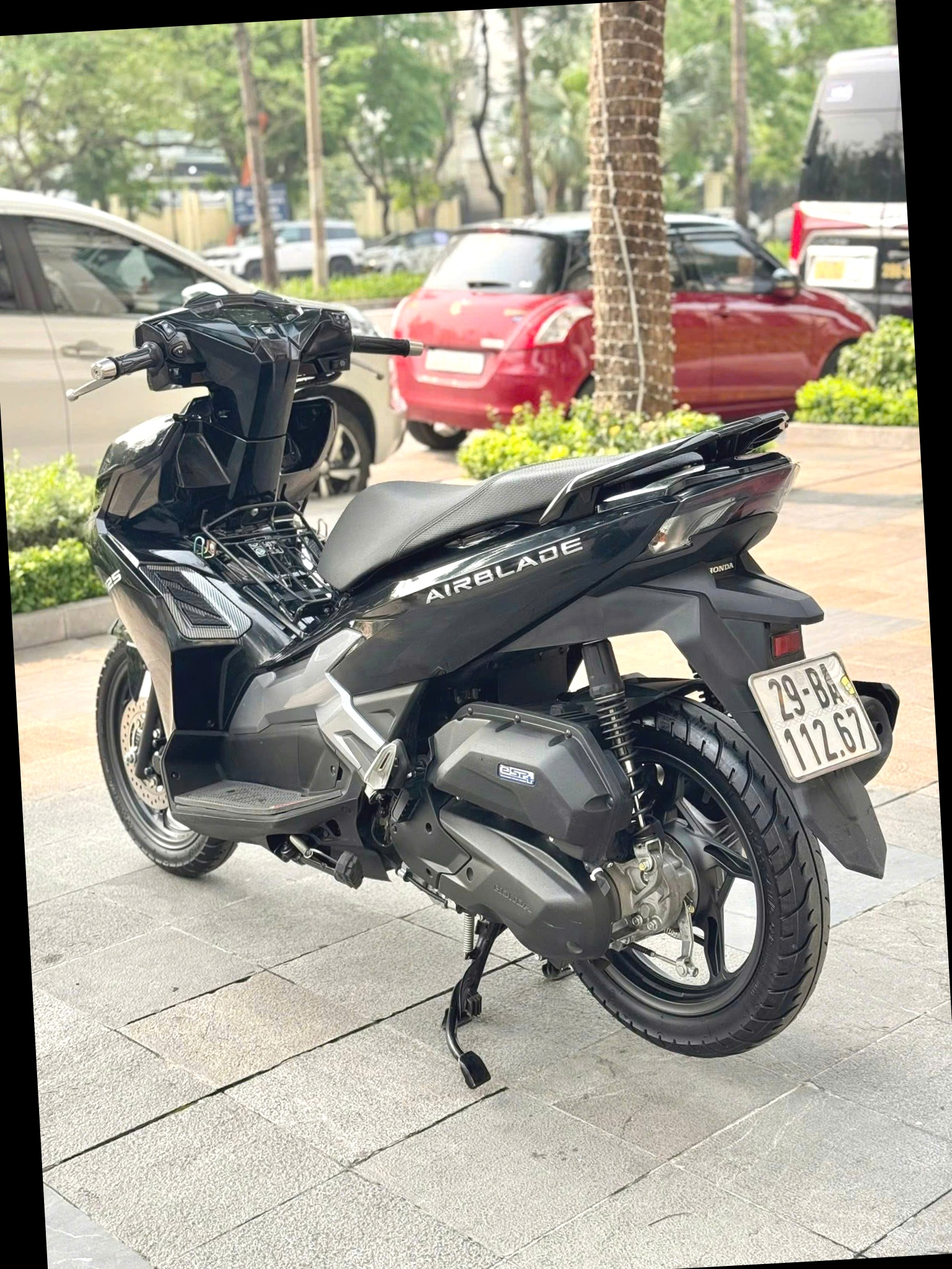Bien-so: (748, 679, 884, 819)
